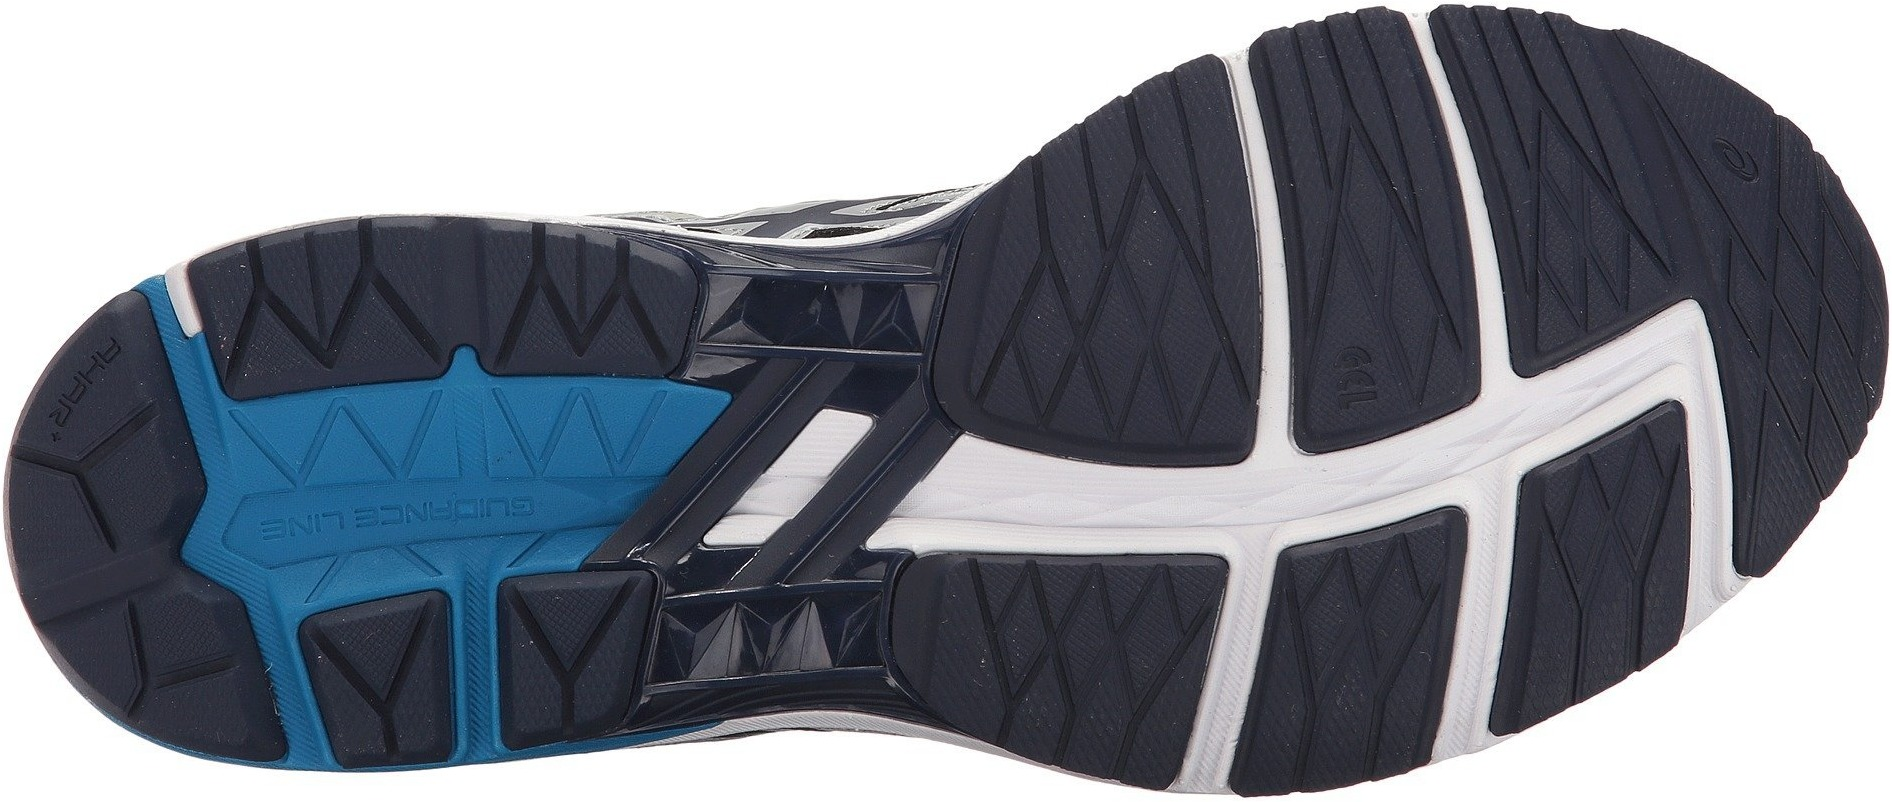quad: (1225, 7, 1519, 459), (45, 552, 290, 762), (1006, 206, 1231, 418), (6, 257, 179, 479), (993, 558, 1167, 726), (1732, 232, 1863, 418), (1518, 156, 1654, 303), (1306, 560, 1431, 685)
text: (1225, 7, 1519, 459), (222, 404, 605, 564), (6, 257, 179, 479)
triangle: (1225, 7, 1519, 459), (222, 404, 605, 564), (230, 251, 451, 462), (479, 276, 681, 474)
